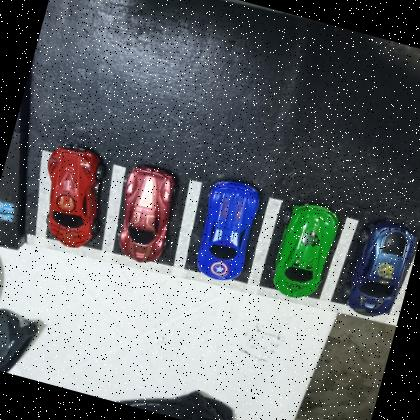Car: (27, 137, 118, 254), (337, 211, 420, 325), (104, 158, 187, 270), (186, 173, 266, 287), (264, 195, 344, 305)
